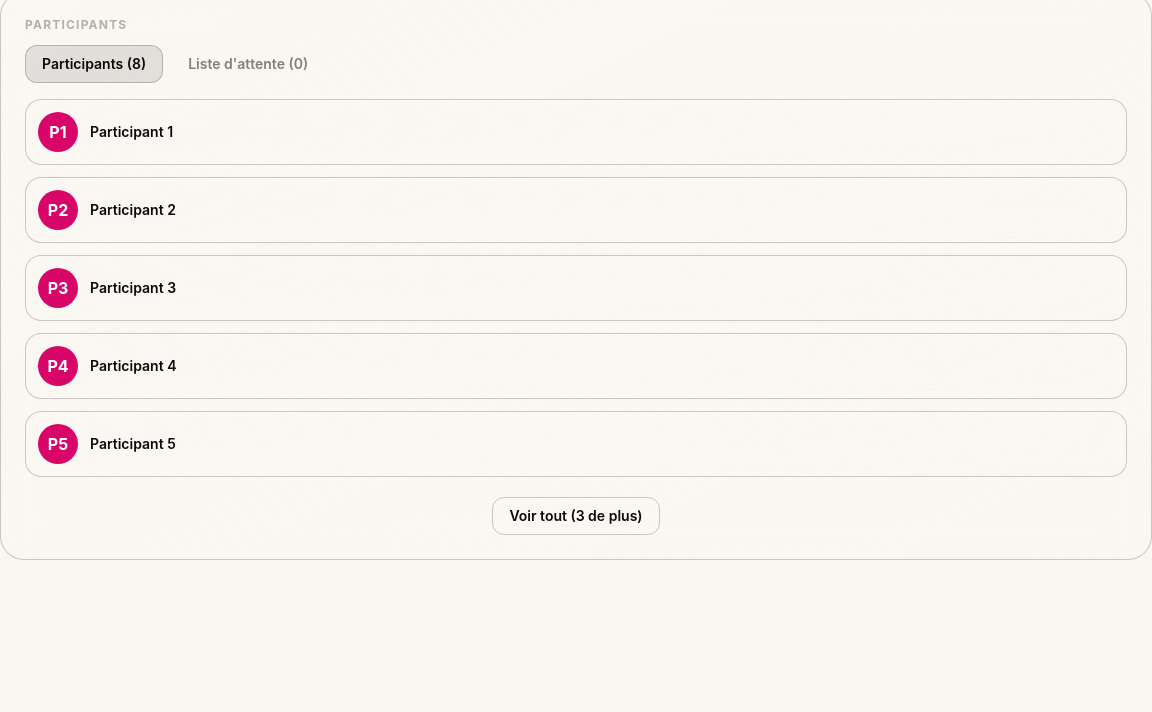
Test: AttendeesList › authenticated view › collapses back to 5 cards when "Réduire" is clicked
The image size is (1152, 712).
Click the button "Voir tout (3 de plus)".
click(576, 516)  # box [492,497,660,535]
(page scrolled)
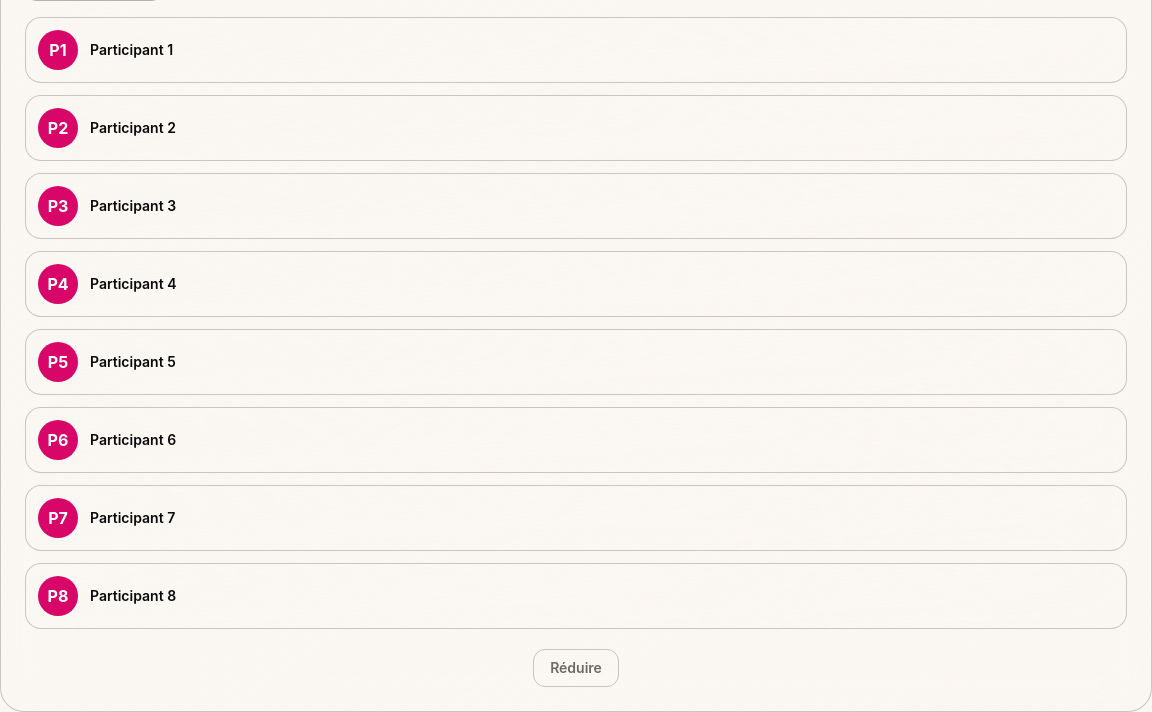
Click the button "Réduire".
click(576, 668)  # box [533,649,619,687]
(page scrolled)
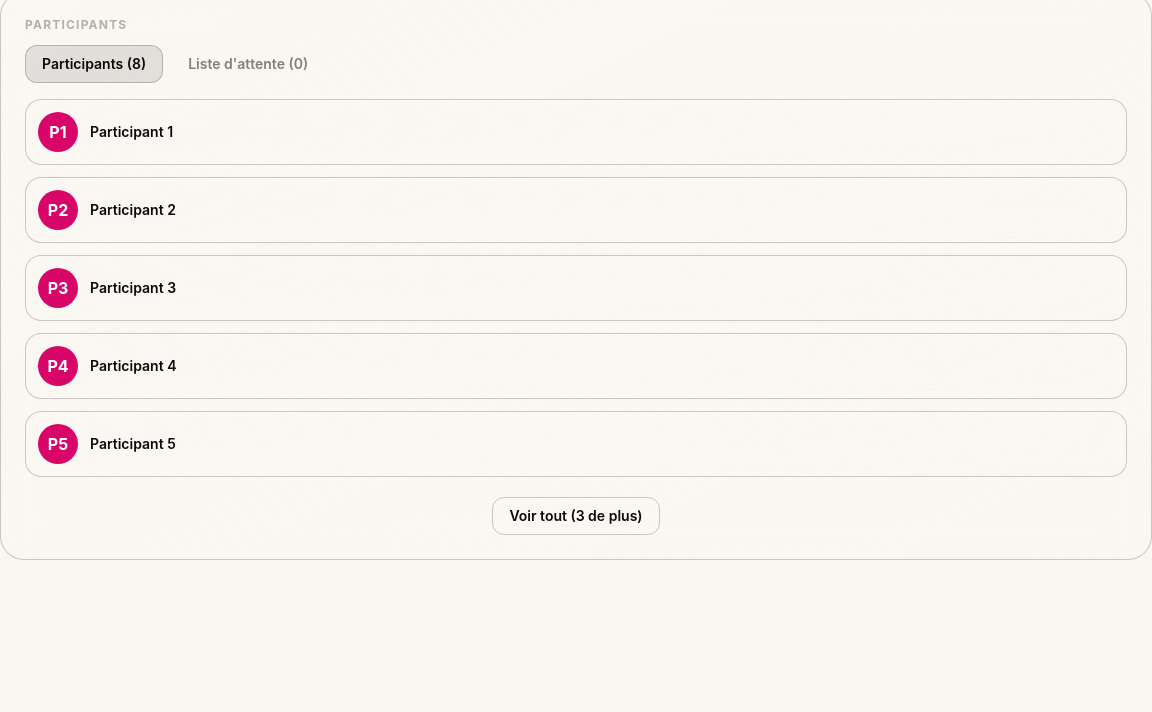
Expected: the text "Participant 5" is shown, [90,435,176,452]
Expected: the link "Participant 6" is gone
Expected: the button "Voir tout (3 de plus)" is shown, [492,497,660,535]
